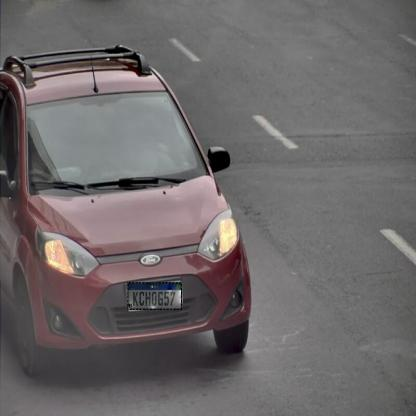PlacaM: (127, 282, 182, 310)
